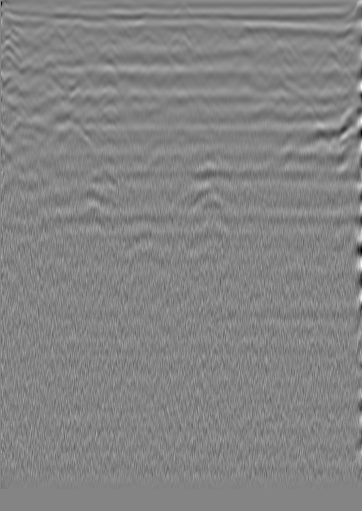가스: (89, 161, 126, 189)
상수: (321, 42, 341, 62)
오수: (34, 22, 54, 42)
우수: (189, 17, 209, 37)
